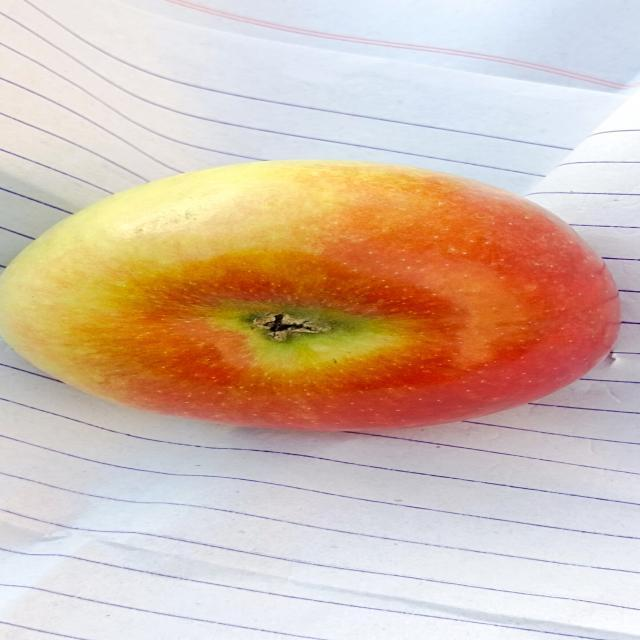Fresh Apple: (25, 158, 617, 464)
